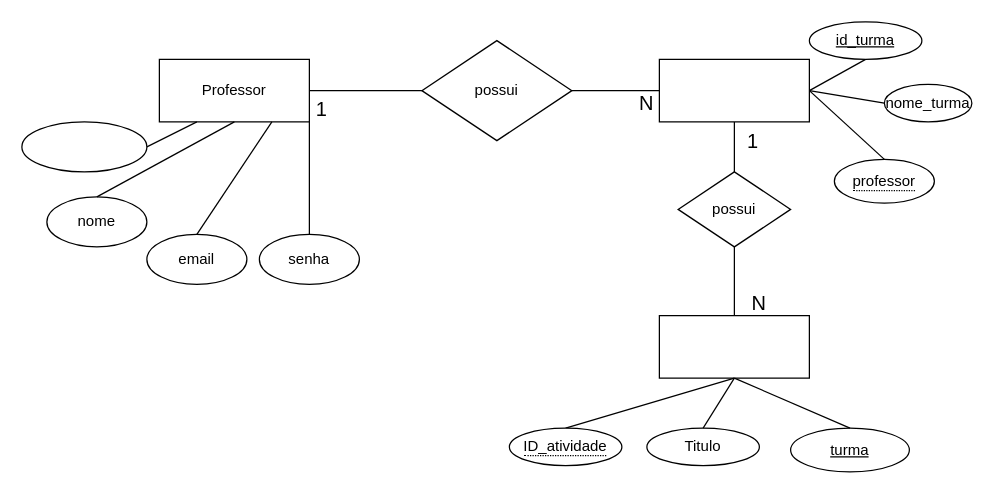
The diagram is 994 pixels wide and 494 high, and some of its shapes have lost their labels. Here are the shapes that lost their labels. From the top down, the centre of each, then its label:
(733,90): Turmas
(84,146): id_professor
(733,346): atividades
